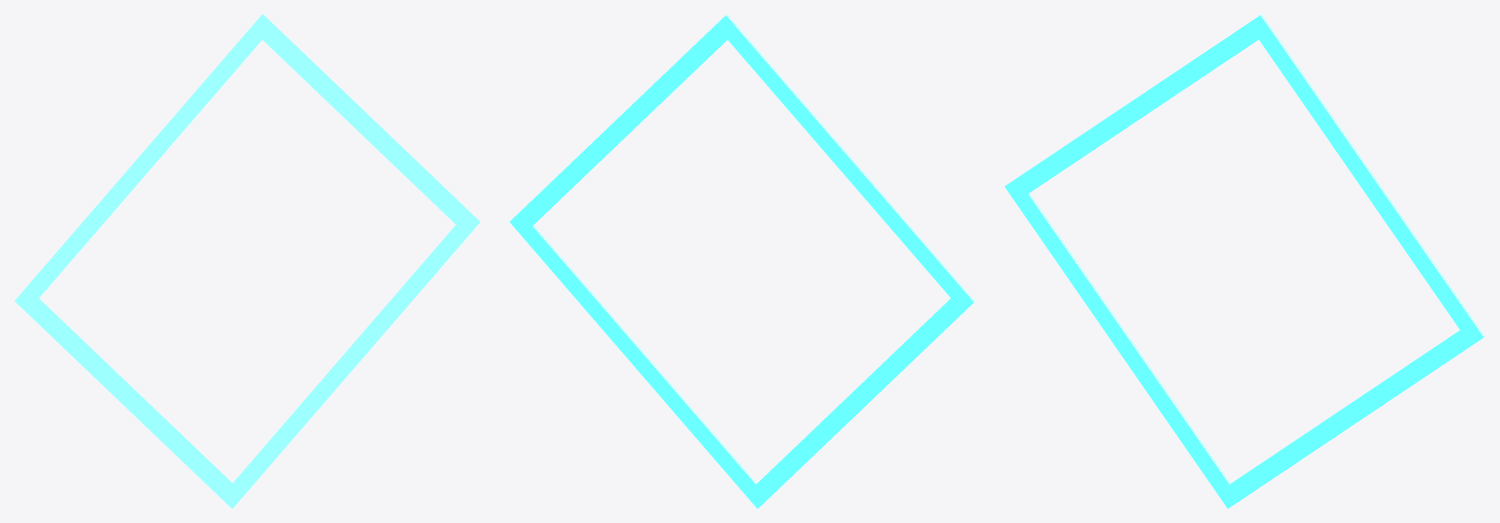
File: rombGlow.fbx
The picture shows the model from 3 angles, left to right: view 1: azimuth 30°, elevation 25°; view 2: azimuth 150°, elevation 25°; view 3: azimuth 330°, elevation 25°; orthographic projection. The views are drawn at different scales.
Parts seen in each view (by area): view 1: Plane.003; view 2: Plane.003; view 3: Plane.003.
Boxes of the visible parts, x1,y1,x2,y2 form: Plane.003: [15, 14, 479, 508]; Plane.003: [510, 14, 974, 508]; Plane.003: [1004, 14, 1485, 508].
Bounding box in the file's own units: 1652 × 1652 × 10.
